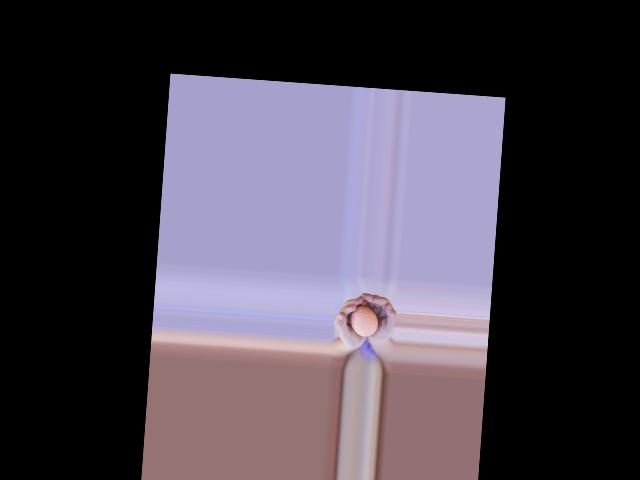egg: (349, 305, 380, 337)
